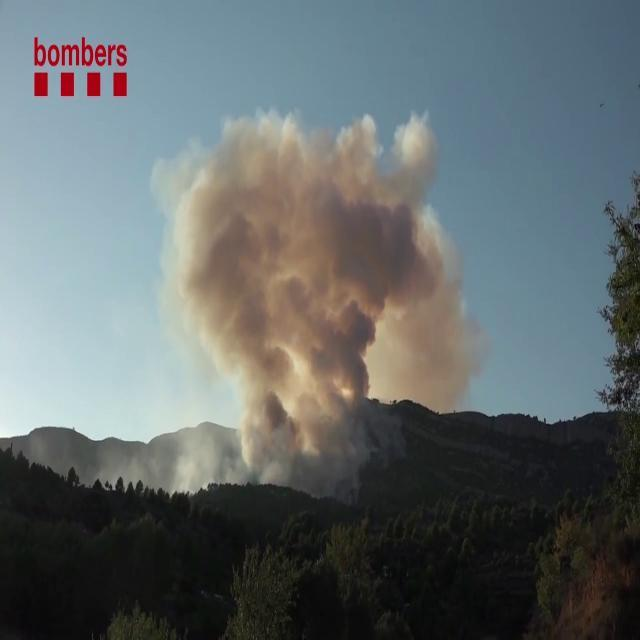Smoke: (156, 103, 476, 489)
